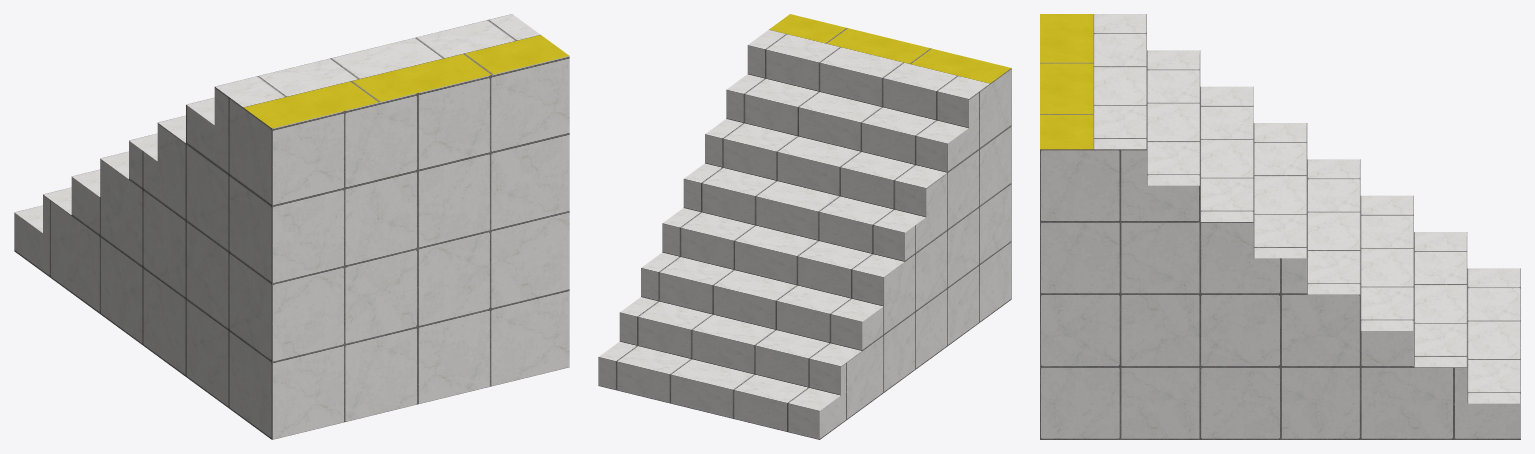
The model's file is Stairs_1.fbx.
3 renders of one model, left to right at view 1: azimuth 30°, elevation 25°; view 2: azimuth 150°, elevation 25°; view 3: azimuth 270°, elevation 25°, orthographic. The views are drawn at different scales.
Parts seen in each view (by area): view 1: Stairs_1; view 2: Stairs_1; view 3: Stairs_1.
Boxes of the visible parts, x1,y1,x2,y2 form: Stairs_1: (14,14,569,439); Stairs_1: (598,14,1011,439); Stairs_1: (1040,14,1520,439).
Bounding box in the file's own units: 2 × 2 × 3.
